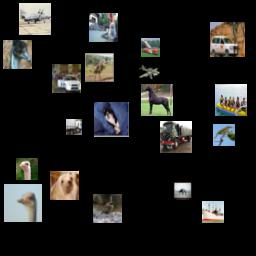airplane: (19, 3, 51, 35), (138, 61, 160, 83), (173, 181, 192, 200)
automobile: (210, 22, 245, 57), (52, 64, 81, 93)
bird: (4, 184, 42, 222), (85, 53, 114, 82), (3, 40, 32, 69), (93, 194, 122, 223), (16, 158, 38, 180), (213, 124, 235, 146)
cat: (94, 102, 129, 137), (89, 13, 118, 42)
dog: (50, 171, 79, 200)
ship: (215, 84, 247, 116), (202, 201, 224, 223)
truck: (160, 121, 192, 153), (141, 38, 160, 57), (66, 119, 82, 135)
